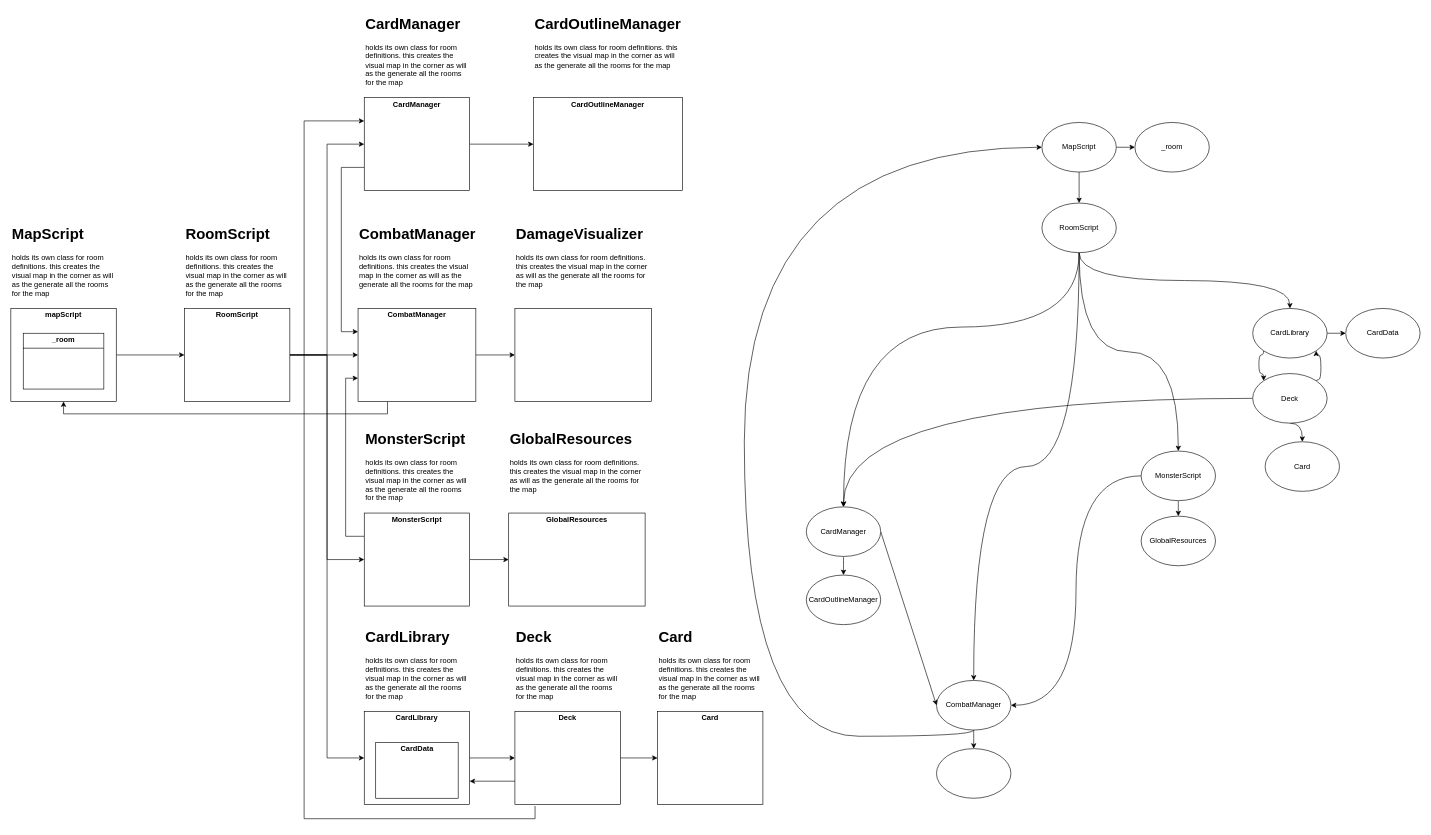
This 1431x835 diagram has some shape labels left out. The box of each missing label's shape, as (x1, y1, x2, y2) in pixels:
DamageVisualizer: (514, 308, 651, 401)
DamageVisulizer: (936, 748, 1011, 798)
